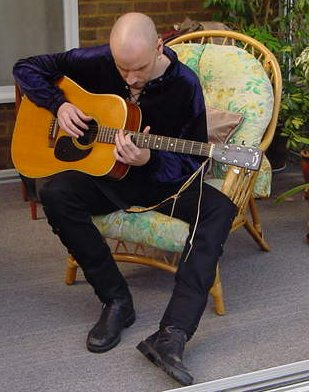guitar: (10, 76, 265, 189)
